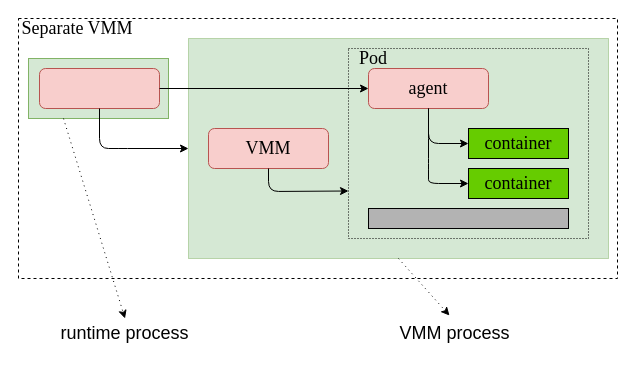
The diagram is 635 pixels wide and 365 high, and some of its shapes have lost their labels. Each missing label, with the centre of its shape:
guest kernel: point 468,218
runtime: point 99,88
